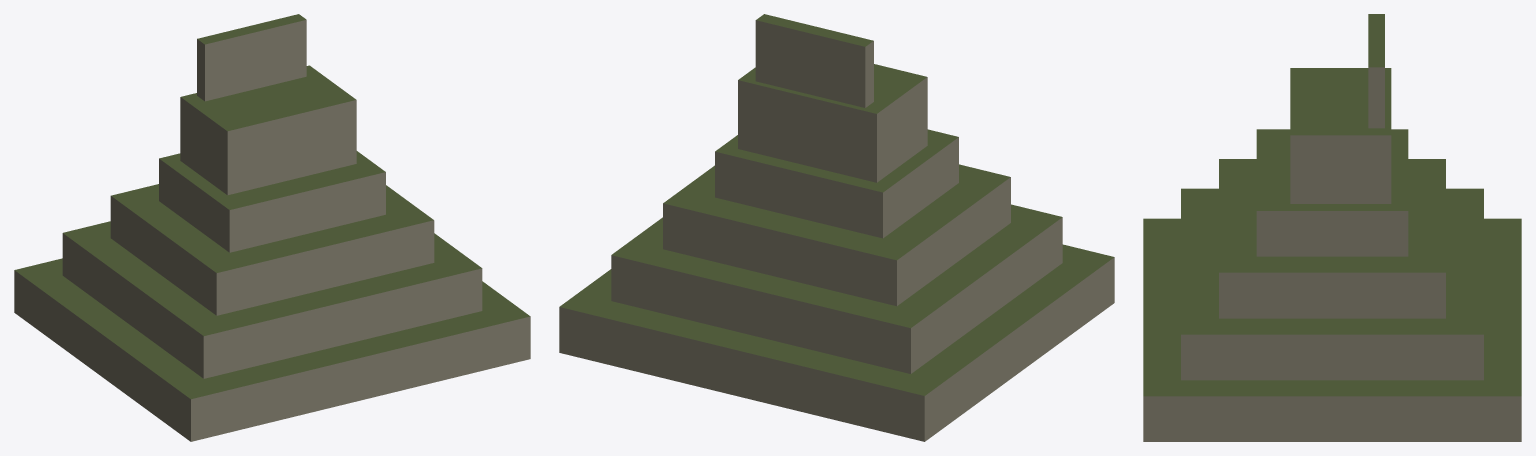
The model's file is ruin-temple-a.tone-v1.lod2.glb.
3 renders of one model, left to right at view 1: azimuth 30°, elevation 25°; view 2: azimuth 150°, elevation 25°; view 3: azimuth 270°, elevation 25°, orthographic. The views are drawn at different scales.
Visible parts, largest first — view 1: ruin-temple-a; view 2: ruin-temple-a; view 3: ruin-temple-a.
Boxes of the visible parts, x1=… form: ruin-temple-a: x1=14, y1=14, x2=530, y2=441; ruin-temple-a: x1=559, y1=14, x2=1114, y2=441; ruin-temple-a: x1=1143, y1=14, x2=1521, y2=441.
Bounding box in the file's own units: 20 × 16.4 × 18.
